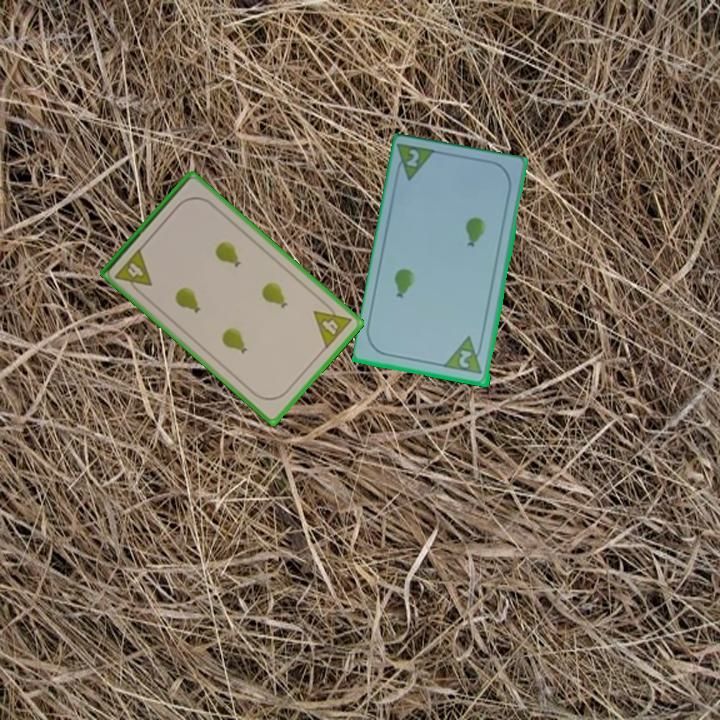2p: (392, 141, 440, 184), (442, 334, 486, 377)
4p: (310, 297, 355, 352), (111, 244, 155, 298)
